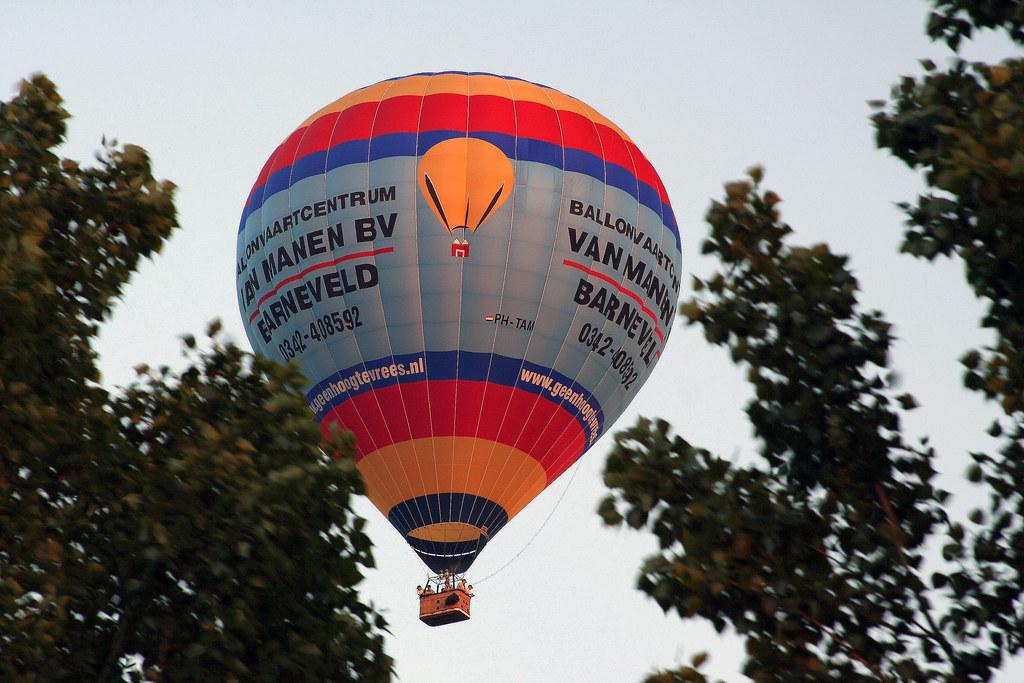balloon: (234, 69, 684, 626)
